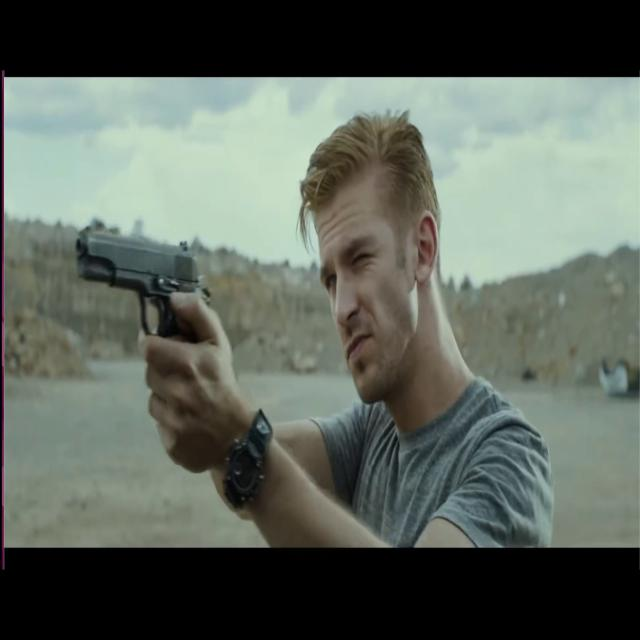weapons: (64, 208, 219, 391)
